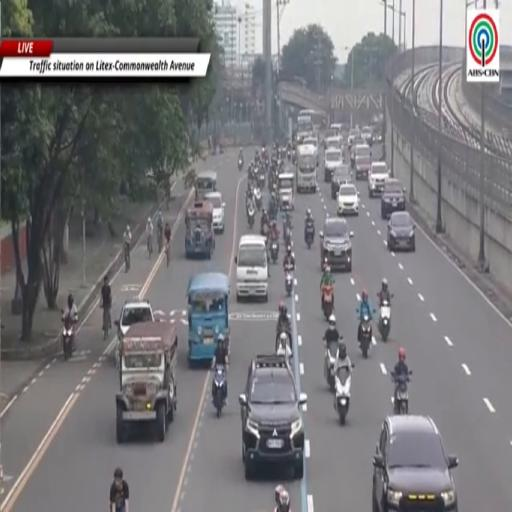bus: (297, 109, 324, 142), (298, 109, 325, 132)
car: (239, 355, 306, 479), (372, 415, 458, 511), (319, 217, 353, 271), (114, 298, 154, 340), (387, 212, 415, 251), (381, 179, 405, 219), (204, 191, 225, 233), (368, 162, 389, 198), (331, 164, 352, 199), (337, 184, 359, 216), (324, 149, 342, 182), (354, 155, 371, 180), (361, 126, 373, 146), (348, 128, 359, 149)
jeepney: (116, 323, 178, 443), (188, 272, 229, 364), (185, 201, 214, 259), (296, 146, 317, 193), (195, 171, 217, 200), (278, 172, 294, 211)
motorcycle: (335, 366, 351, 425), (391, 371, 412, 414), (324, 342, 338, 392), (213, 365, 226, 418), (62, 317, 74, 360), (378, 300, 390, 342), (275, 325, 292, 353), (360, 315, 371, 358), (322, 285, 333, 319), (285, 265, 293, 296), (305, 222, 314, 249), (270, 240, 278, 263), (254, 188, 262, 211), (283, 227, 291, 246), (248, 210, 254, 229), (261, 222, 269, 236), (259, 170, 265, 188), (292, 150, 296, 164), (219, 143, 224, 154), (239, 157, 243, 170), (287, 150, 291, 161)
